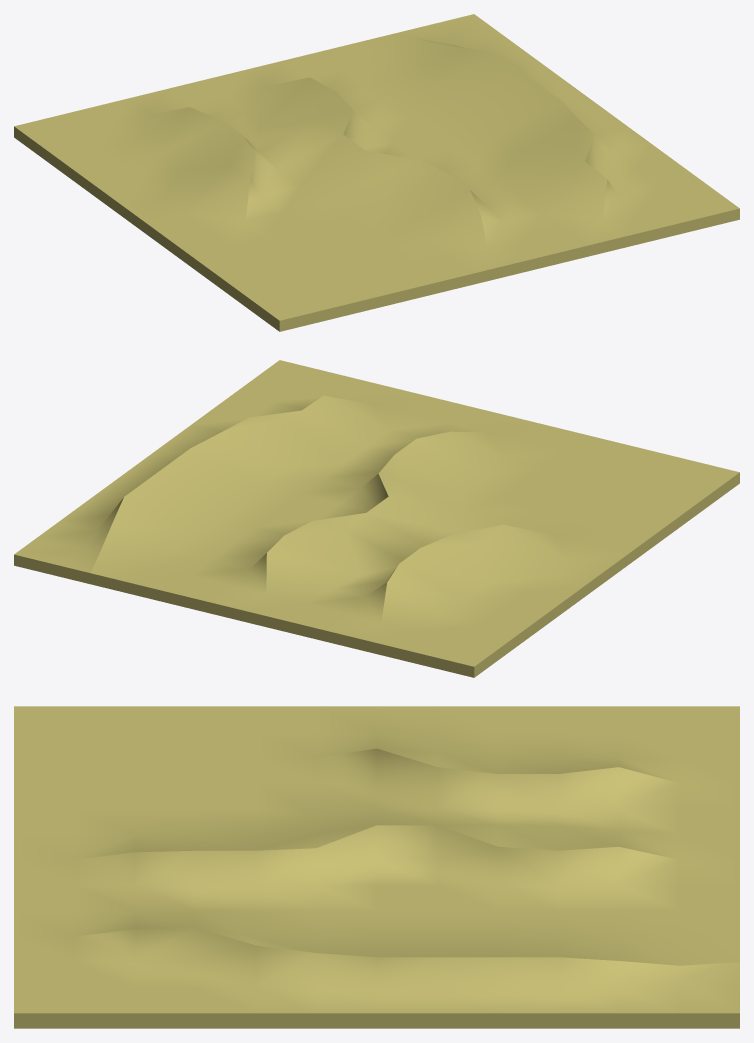
The model's file is Desert II.fbx.
3 views of the same model, one above another, from view 1: azimuth 30°, elevation 25°; view 2: azimuth 150°, elevation 25°; view 3: azimuth 270°, elevation 25° (orthographic). The views are drawn at different scales.
Parts seen in each view (by area): view 1: Desert II; view 2: Desert II; view 3: Desert II.
Part boxes in pixels (x1,y1,x2,y2): Desert II: [14, 14, 739, 331]; Desert II: [14, 360, 739, 677]; Desert II: [14, 706, 739, 1028].
Bounding box in the file's own units: 1600 × 108 × 1600.
